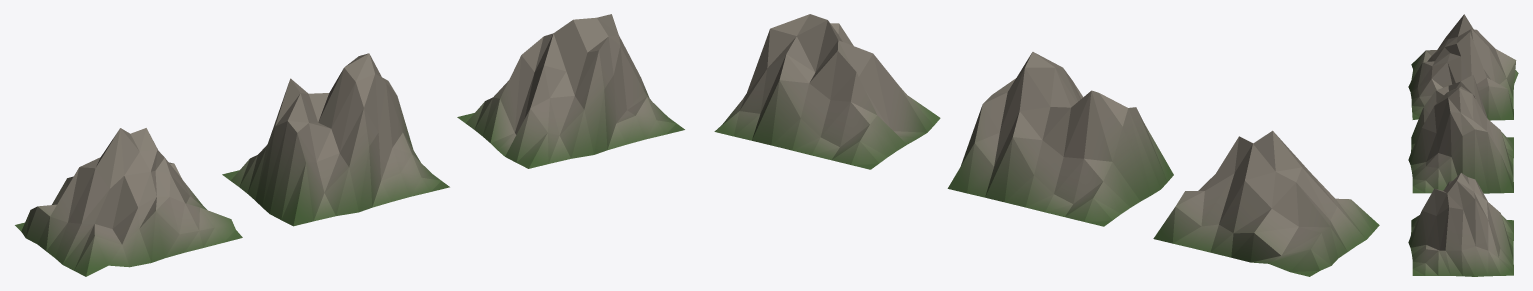
The model's file is High_hill_01.FBX.
The picture shows the model from 3 angles, left to right: view 1: azimuth 30°, elevation 25°; view 2: azimuth 150°, elevation 25°; view 3: azimuth 270°, elevation 25°; orthographic projection. The views are drawn at different scales.
Parts seen in each view (by area): view 1: Plane001, Plane003, Plane002; view 2: Plane001, Plane003, Plane002; view 3: Plane001, Plane003, Plane002.
Part boxes in pixels (bbox=[...]): Plane001: bbox=[222, 53, 449, 226]; Plane003: bbox=[457, 14, 684, 168]; Plane002: bbox=[15, 128, 242, 276]; Plane001: bbox=[947, 52, 1173, 226]; Plane003: bbox=[714, 14, 940, 169]; Plane002: bbox=[1153, 130, 1379, 276]; Plane001: bbox=[1408, 75, 1513, 193]; Plane003: bbox=[1408, 173, 1513, 276]; Plane002: bbox=[1408, 14, 1518, 120].
Size of the model in its own units: 19081 by 3684 by 4145.
